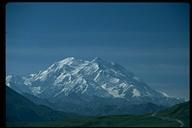mountain: (5, 44, 191, 123)
sky: (6, 3, 187, 52)
snow: (58, 66, 116, 92)
